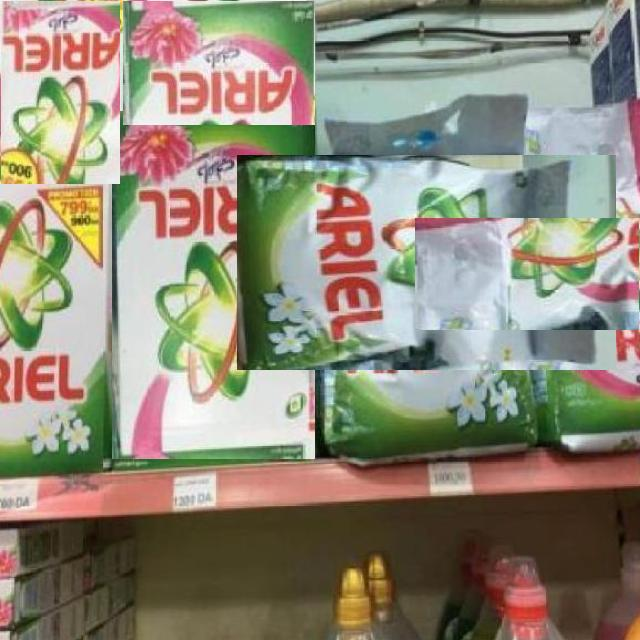Detergent: (236, 155, 616, 370), (112, 111, 315, 459), (0, 176, 106, 469), (415, 217, 640, 330), (123, 0, 315, 125), (0, 0, 120, 184)
